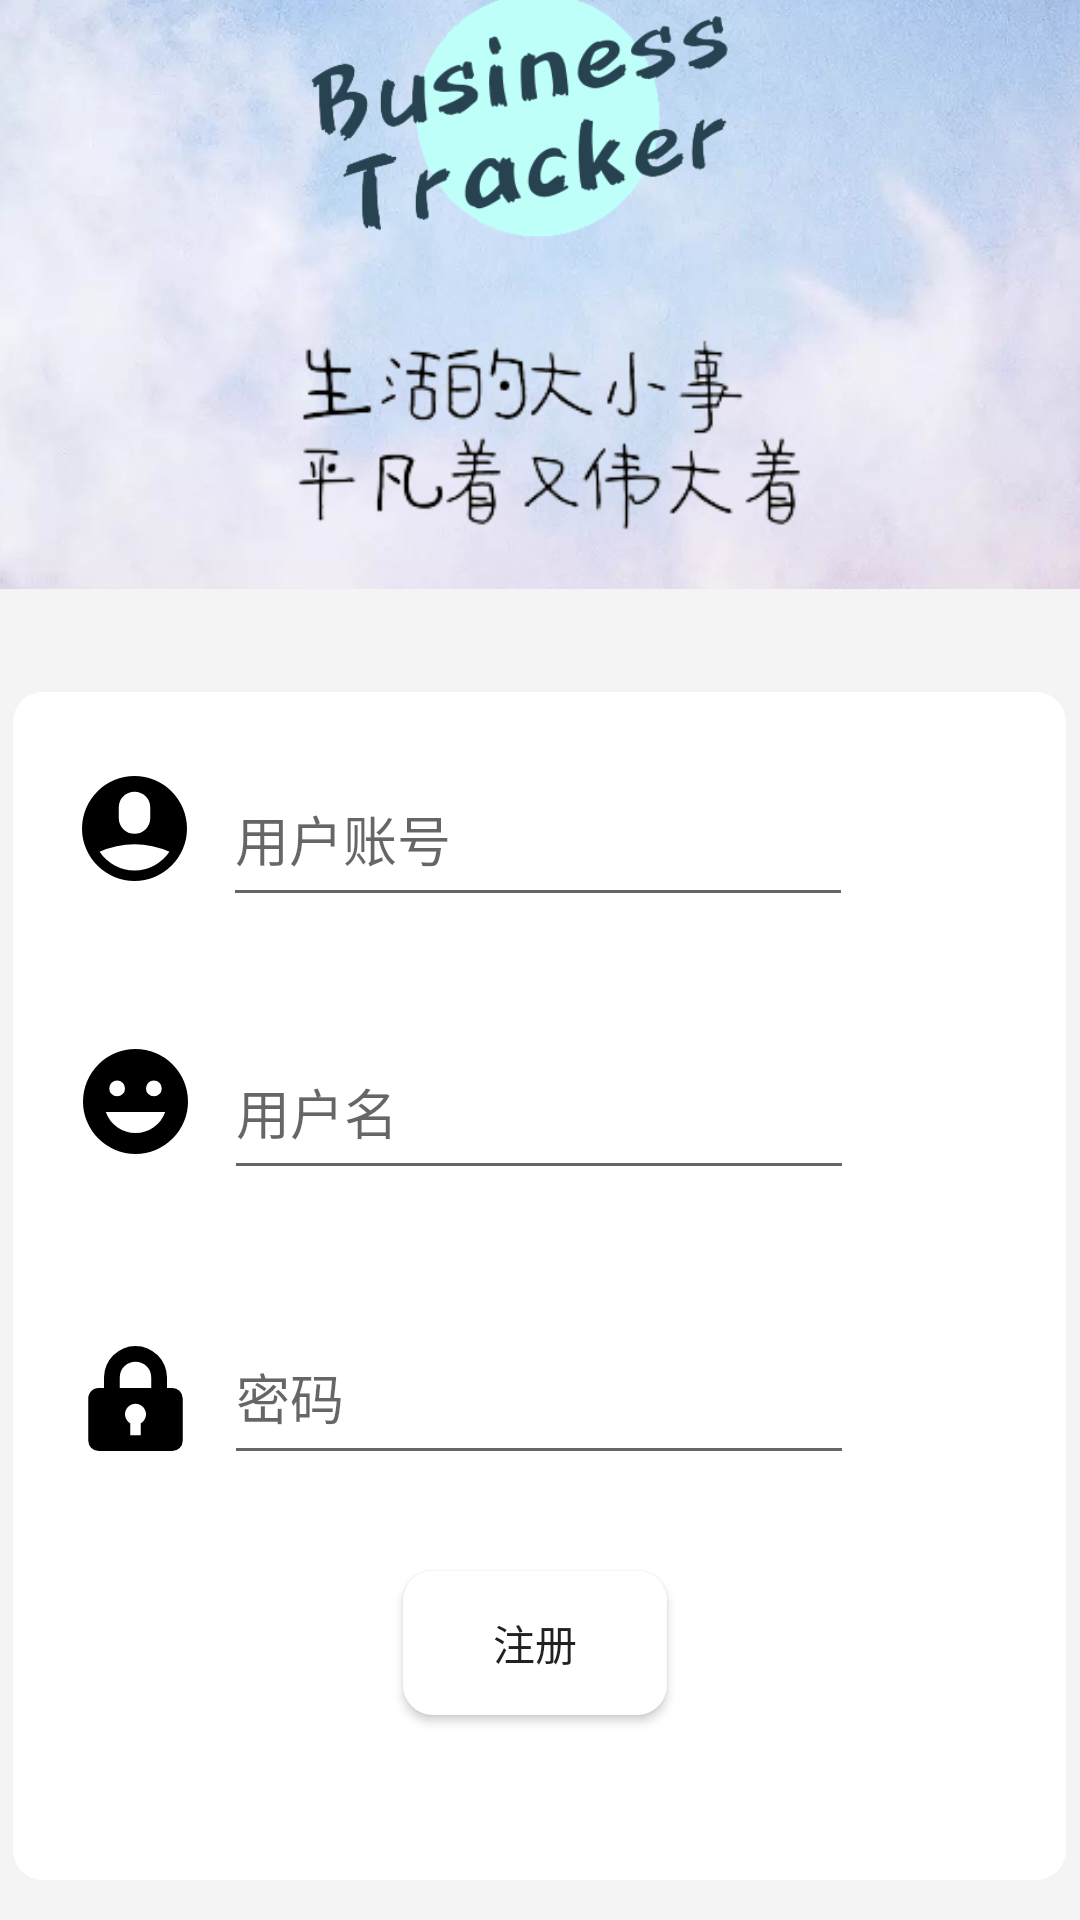

Locate icon controls on the screen. Image size 1080px x 1920px, boxes as (x1, y1, x2, y2).
lock closed: (88, 1346, 183, 1451)
mood happy: (83, 1049, 188, 1154)
user circle: (82, 776, 187, 881)
